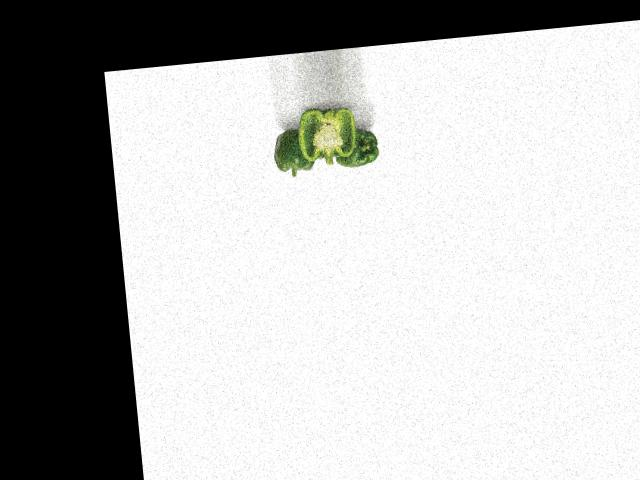bell_pepper: (328, 121, 384, 173)
